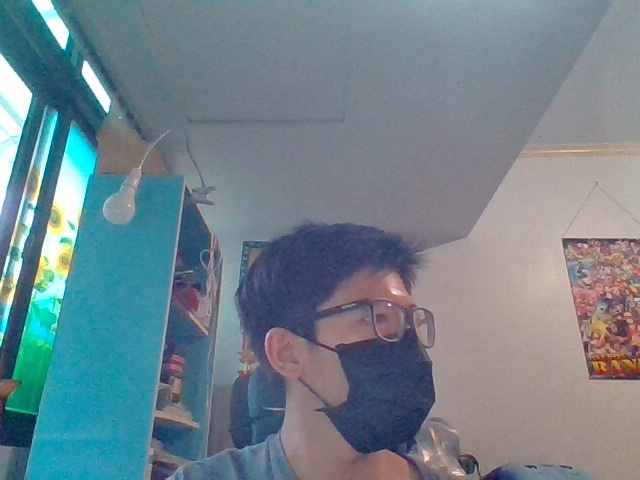Mask: (264, 326, 437, 456)
